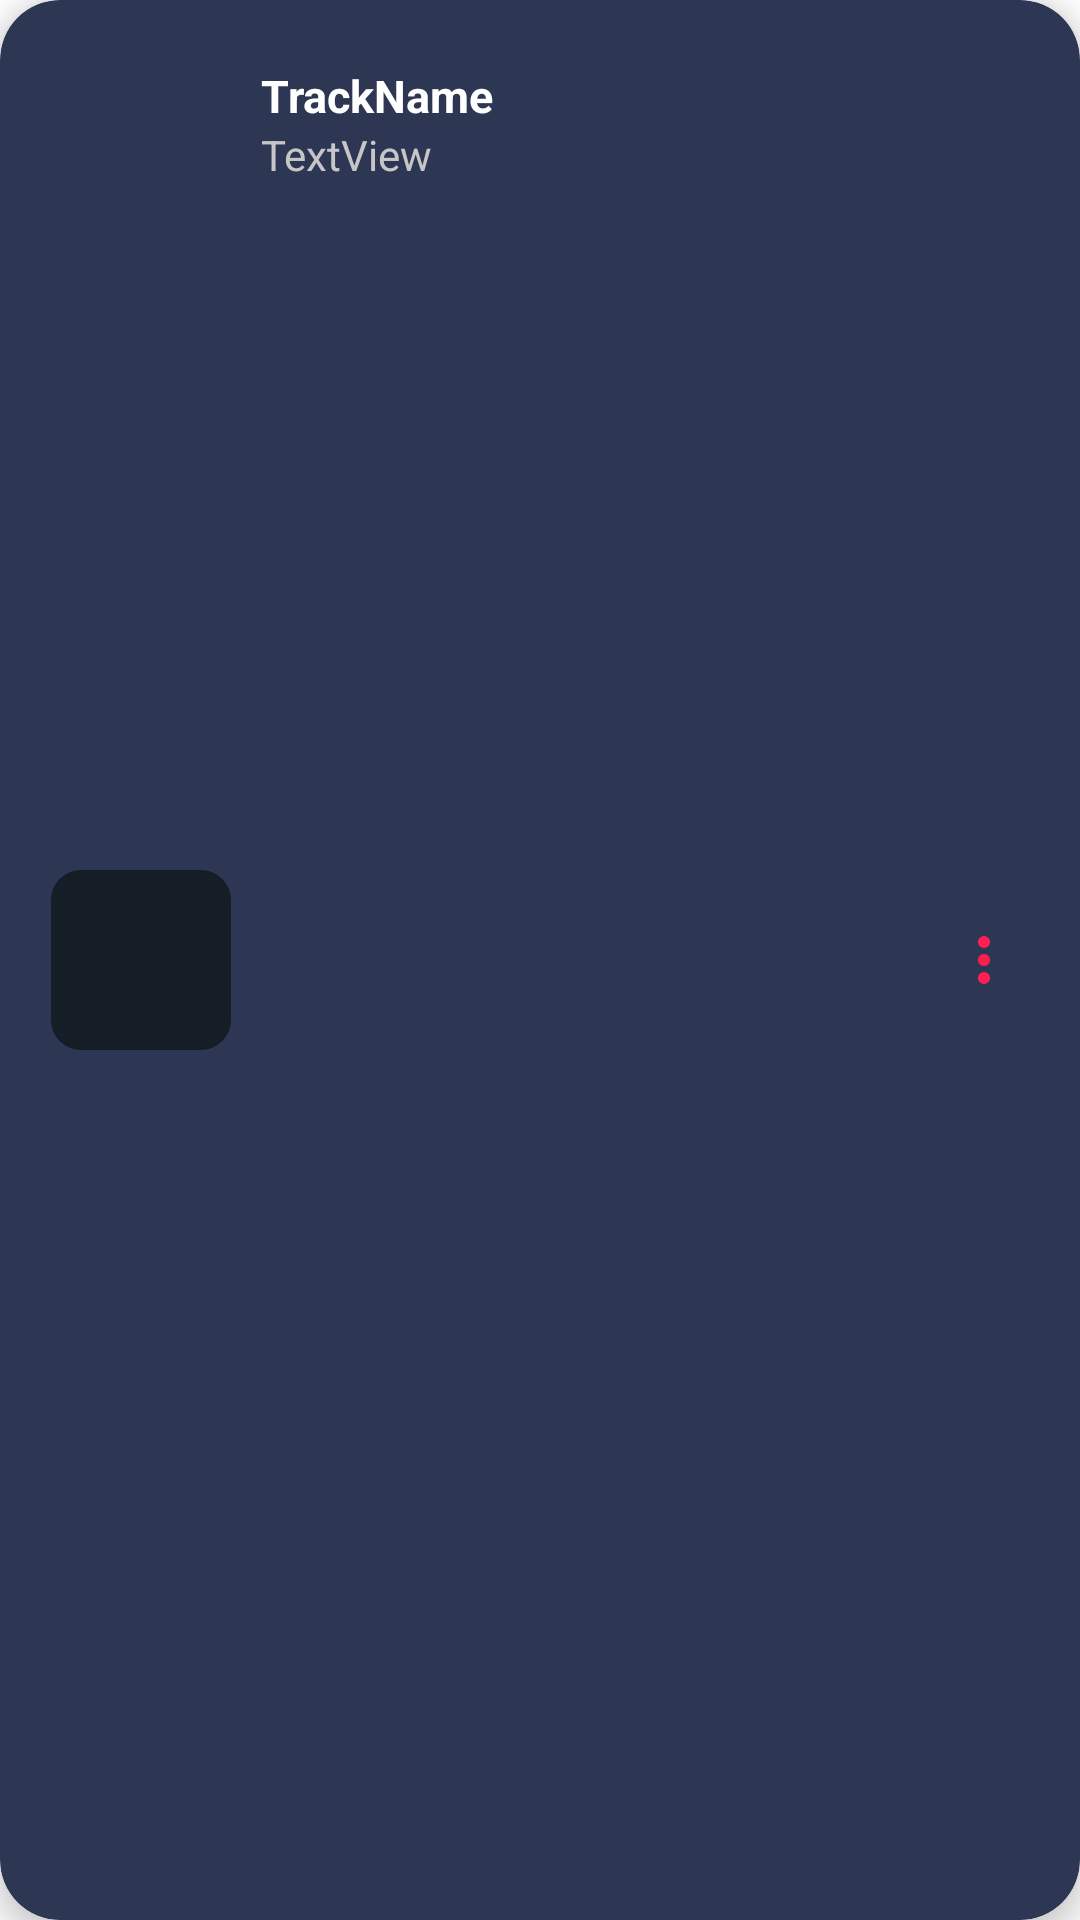

Named icons in this screenshot (1080 x 1920) and their centers, [x,y]:
more vertical: [984,960]
